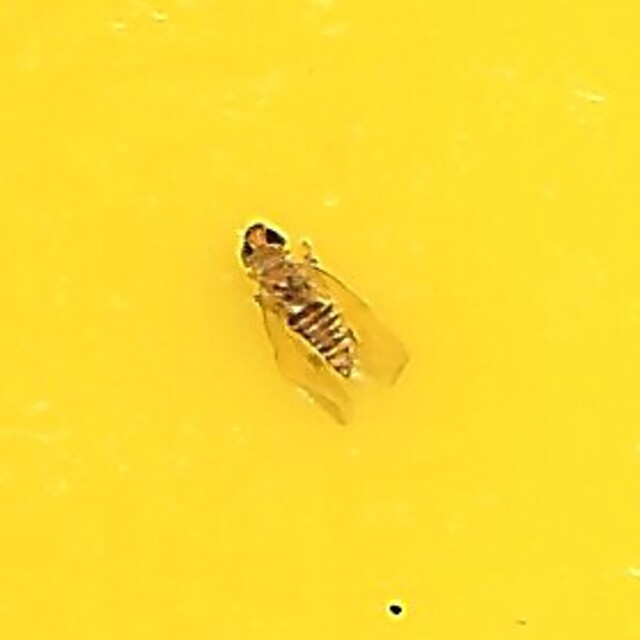Hemiptera: (229, 214, 411, 426)
